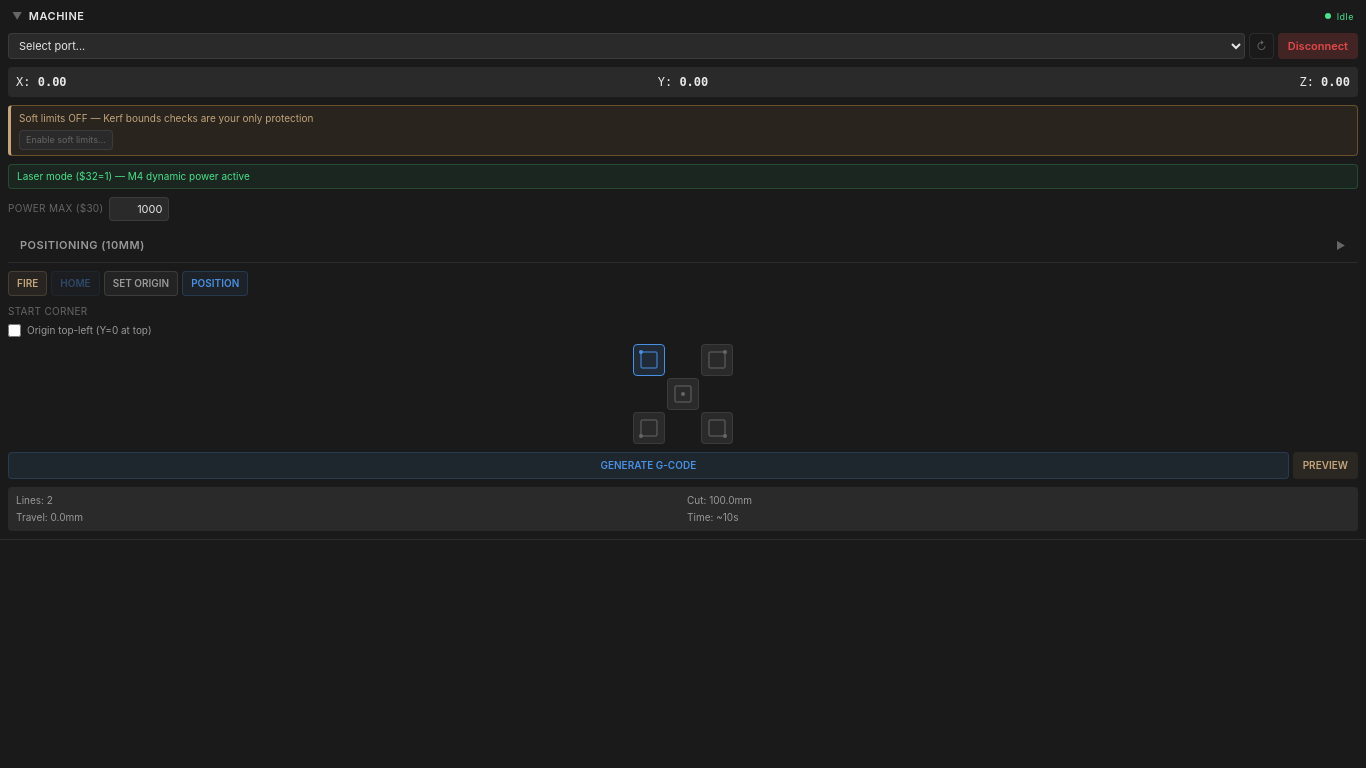
Test: S3 — MachinePanel and StatusBar › jog buttons are enabled and titled by axis when the gate is clear (positive sibling)
The width and height of the screenshot is (1366, 768).
Click the text "Positioning (10mm)". click: (82, 245)
box: [20, 237, 145, 254]
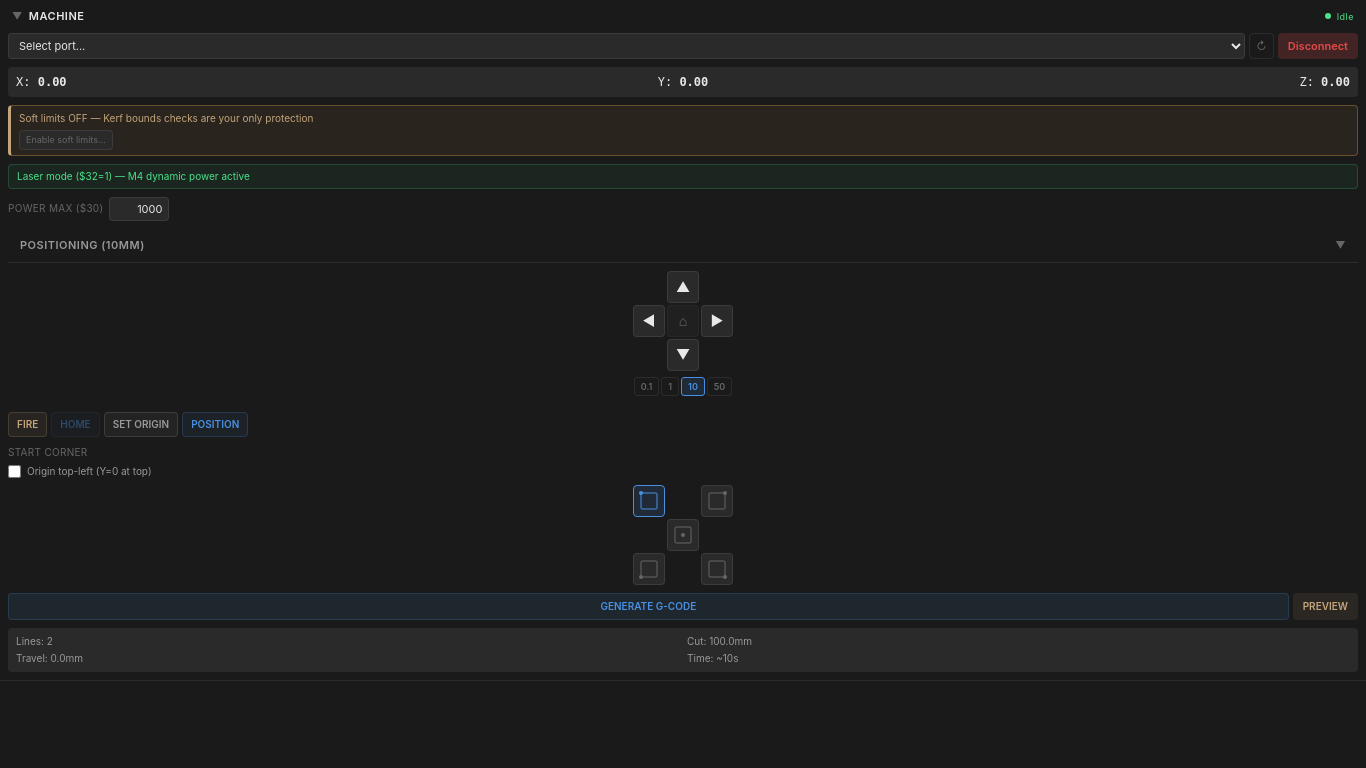
Expected: the button titled "Y+" is enabled, [667, 270, 699, 302]
Expected: the button titled "X-" is enabled, [633, 304, 665, 336]
Expected: the button titled "Y-" is enabled, [667, 338, 699, 370]
